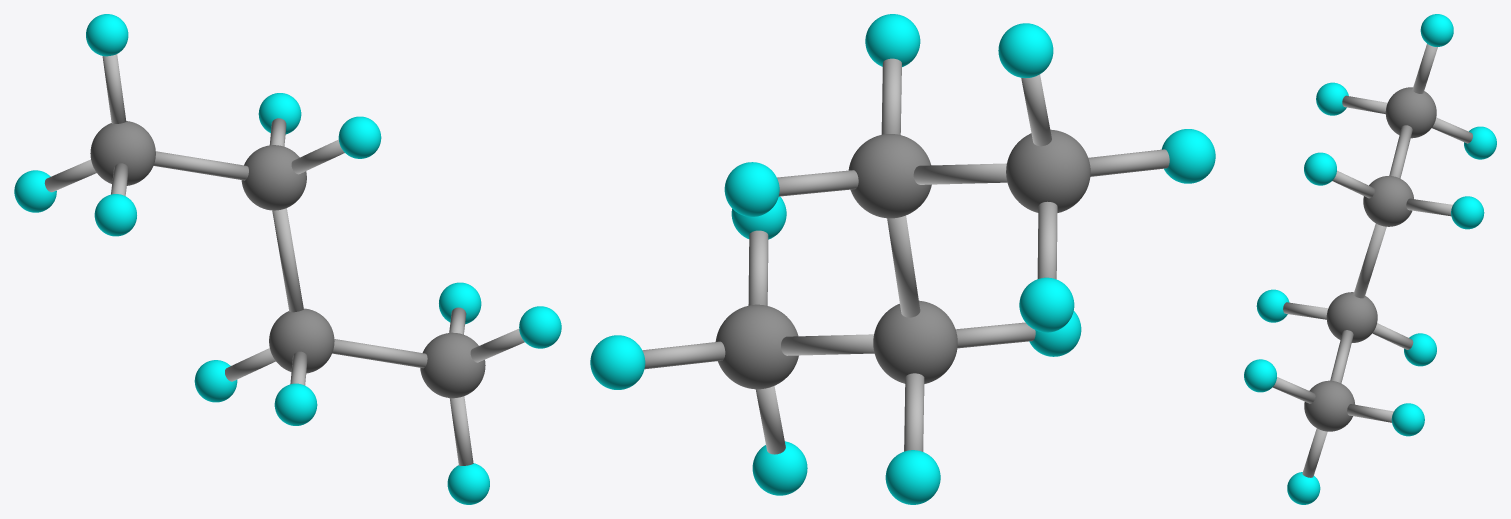
The model's file is butane.glb.
The picture shows the model from 3 angles, left to right: view 1: azimuth 30°, elevation 25°; view 2: azimuth 150°, elevation 25°; view 3: azimuth 270°, elevation 25°; orthographic projection. The views are drawn at different scales.
Parts seen in each view (by area): view 1: CMAtom_0; view 2: CMAtom_0; view 3: CMAtom_0.
Boxes of the visible parts, box(x1,y1,x2,y2) form: CMAtom_0: box(14, 14, 561, 504); CMAtom_0: box(590, 14, 1215, 504); CMAtom_0: box(1244, 14, 1496, 504).
Size of the model in its own units: 0.4668 by 0.5105 by 0.3056.
